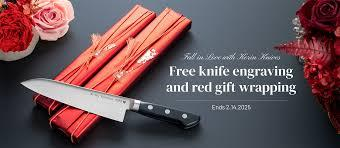Knife: (20, 77, 200, 129)
